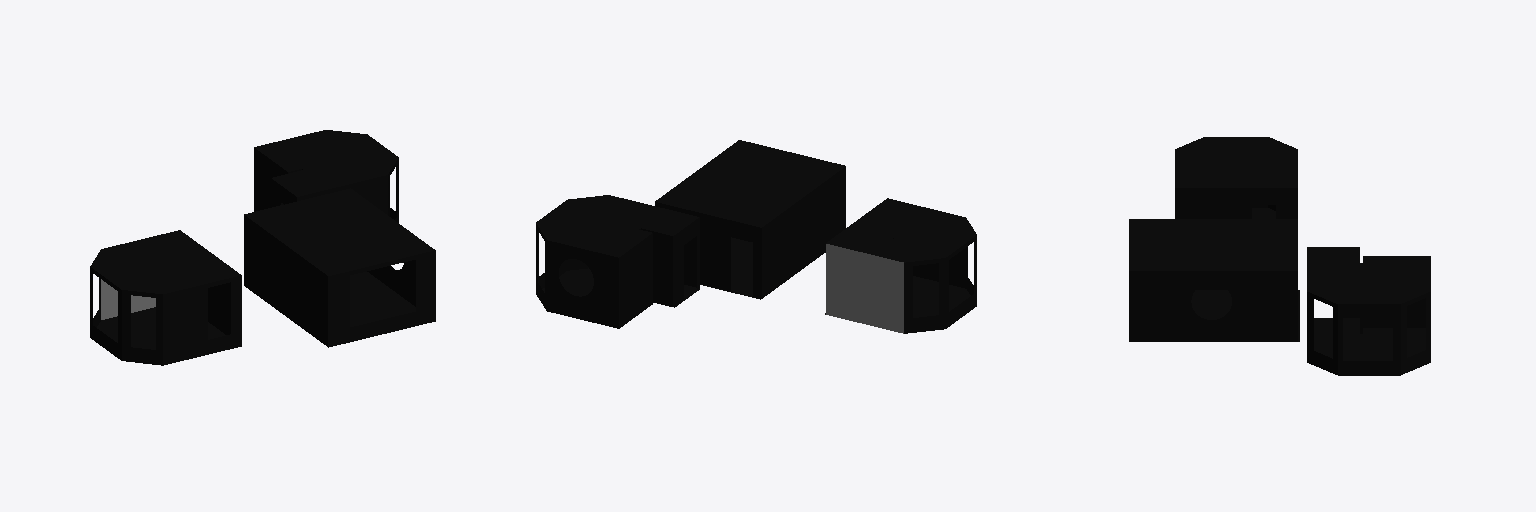
The model's file is BadRoom.obj.
The picture shows the model from 3 angles: view 1: azimuth 30°, elevation 25°; view 2: azimuth 150°, elevation 25°; view 3: azimuth 270°, elevation 25°; orthographic projection.
Visible parts, largest first — view 1: Body; view 2: Body; view 3: Body.
Boxes of the visible parts, box(x1,y1,x2,y2) form: Body: box(90, 130, 435, 365); Body: box(536, 140, 976, 333); Body: box(1129, 137, 1430, 375).
Size of the model in its own units: 8.46 by 1.68 by 6.43.